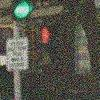traffic lights: (42, 26, 50, 47)
